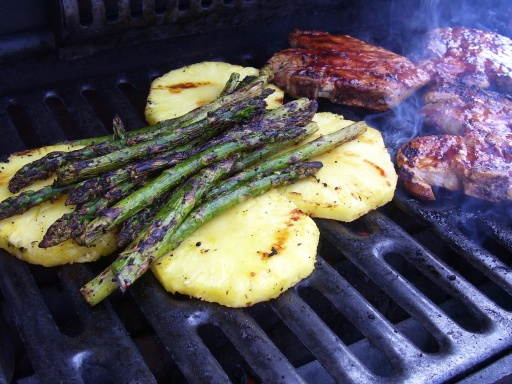background: (0, 14, 410, 185)
